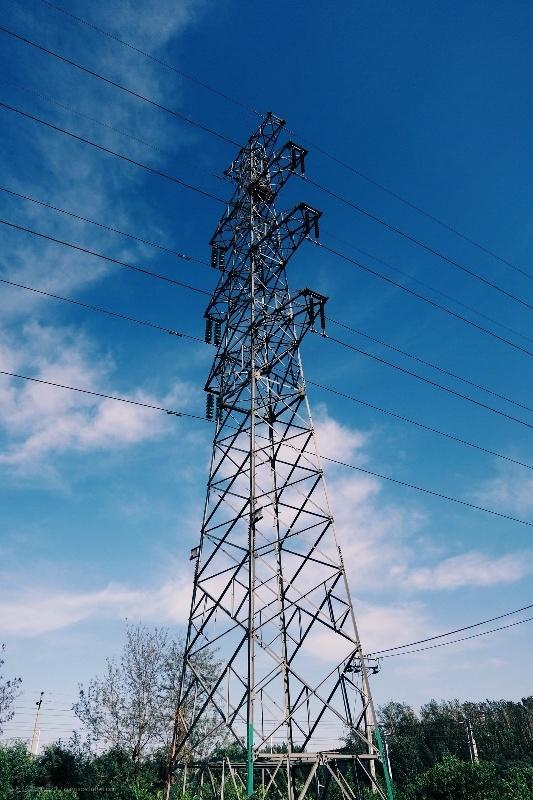power_tower: (179, 110, 393, 789)
